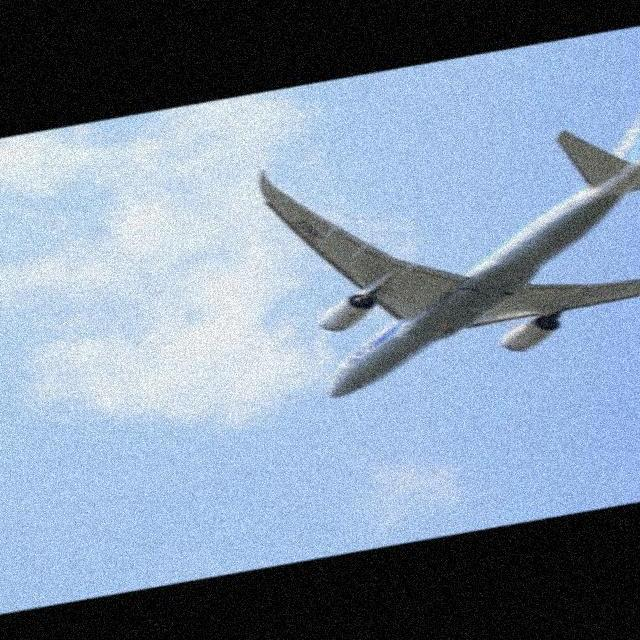airplane: (253, 97, 640, 402)
